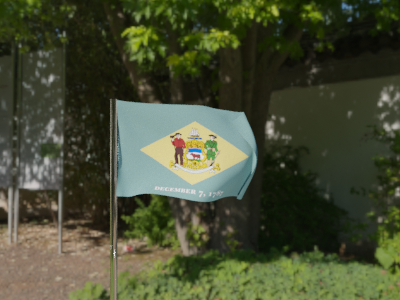Delaware flag: (113, 100, 259, 202)
